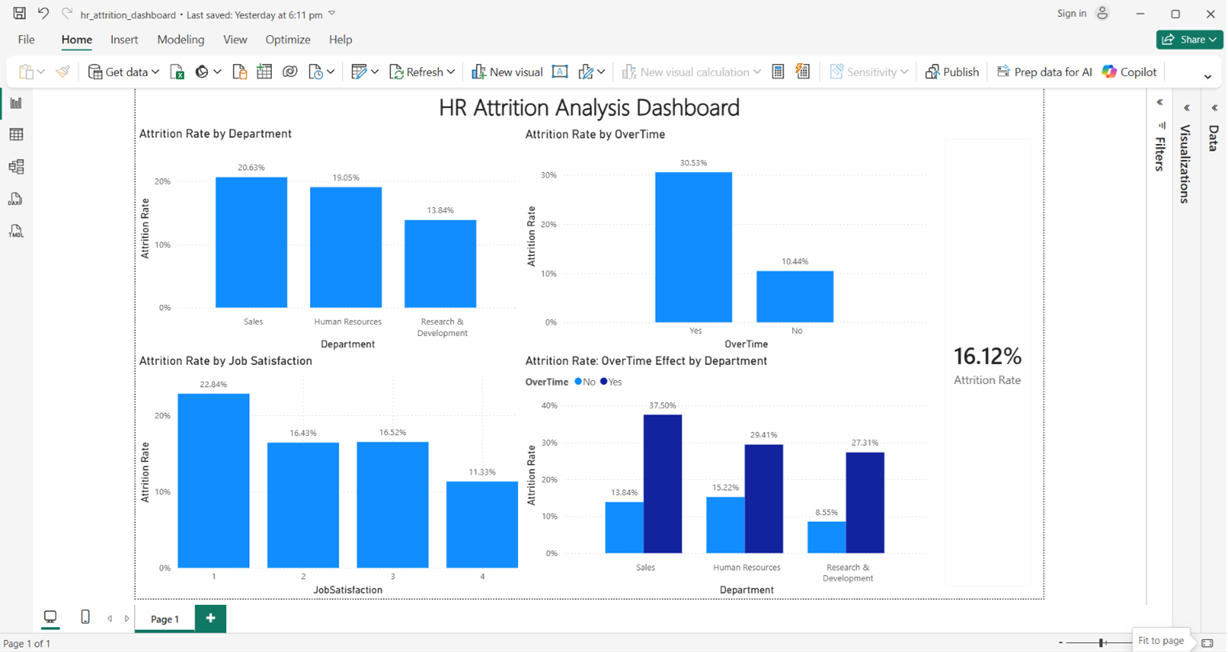

This screenshot's page, from the dashboard's own definition file:
{"tool":"powerbi","page":{"name":"Page 1","canvas":[1280,720],"ordinal":0},"visuals":[{"type":"cardVisual","fields":{"Data":["Table1.Attrition Rate"]},"box":[1123.9,55.3,156.3,664.4],"z":0},{"type":"clusteredColumnChart","fields":{"Category":["Department_Table.Department"],"Y":["Table1.Attrition Rate"]},"box":[0,53.9,544.5,320.7],"z":1000},{"type":"clusteredColumnChart","fields":{"Category":["Table1.OverTime"],"Y":["Table1.Attrition Rate"]},"box":[544.5,55.3,579.5,319.4],"z":2000},{"type":"clusteredColumnChart","title":"Attrition Rate by Job Satisfaction","fields":{"Y":["Table1.Attrition Rate"],"Category":["Table1.JobSatisfaction"]},"box":[0,374.6,544.5,346.3],"z":3000},{"type":"textbox","box":[0,0,1280.3,53.5],"z":4000},{"type":"clusteredColumnChart","title":"Attrition Rate: OverTime Effect by Department","fields":{"Category":["Table1.Department"],"Y":["Table1.Attrition Rate"],"Series":["Table1.OverTime"]},"box":[544.5,374.6,579.5,346.3],"z":5000}]}

Visuals, with their boxes on the page's 1280x720 design canvas (x1, y1, x2, y2). These are canvas units, not pixel positions in the 1228x652 screenshot, which may show the page scaled, cropped or inside an application window:
cardVisual - Table1.Attrition Rate: {"x1": 1124, "y1": 55, "x2": 1280, "y2": 720}
clusteredColumnChart - Department_Table.Department x Table1.Attrition Rate: {"x1": 0, "y1": 54, "x2": 544, "y2": 375}
clusteredColumnChart - Table1.OverTime x Table1.Attrition Rate: {"x1": 544, "y1": 55, "x2": 1124, "y2": 375}
"Attrition Rate by Job Satisfaction" clusteredColumnChart: {"x1": 0, "y1": 375, "x2": 544, "y2": 721}
textbox: {"x1": 0, "y1": 0, "x2": 1280, "y2": 54}
"Attrition Rate: OverTime Effect by Department" clusteredColumnChart: {"x1": 544, "y1": 375, "x2": 1124, "y2": 721}
